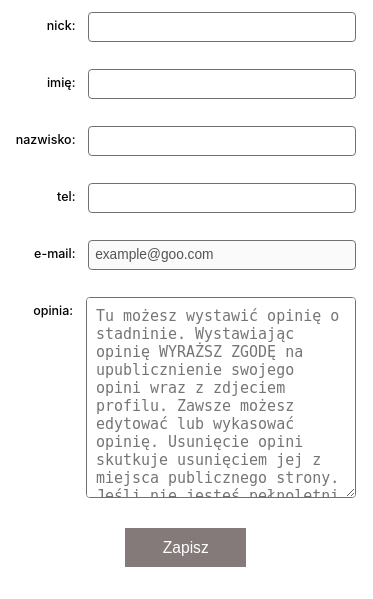
Scenario: Edit profile check error message › no data nick only tab should show error after focus
Click the field with test id "inputEditFormProfileNick" at point(222, 27), box [88, 12, 356, 42]
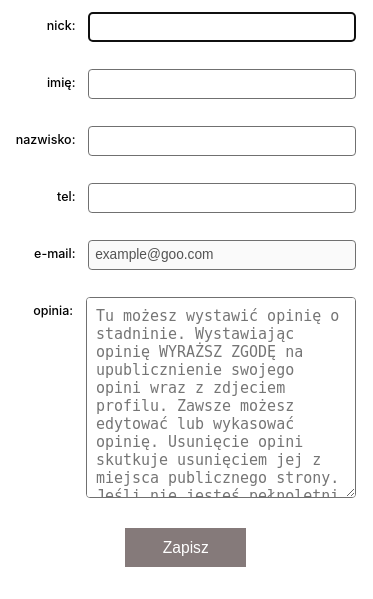
Press Tab
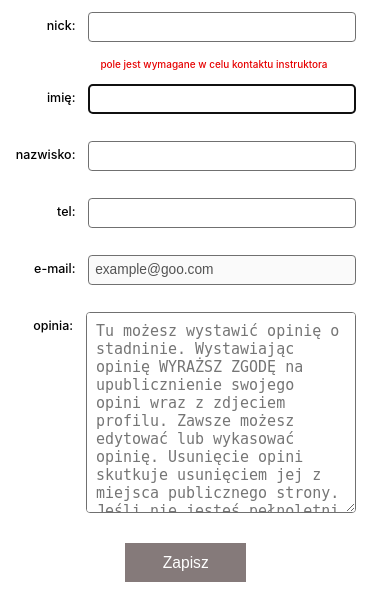
Expected: the text with test id "errorEditFormProfileNick" reads "pole jest wymagane w celu kontaktu instruktora", [100, 58, 328, 70]
